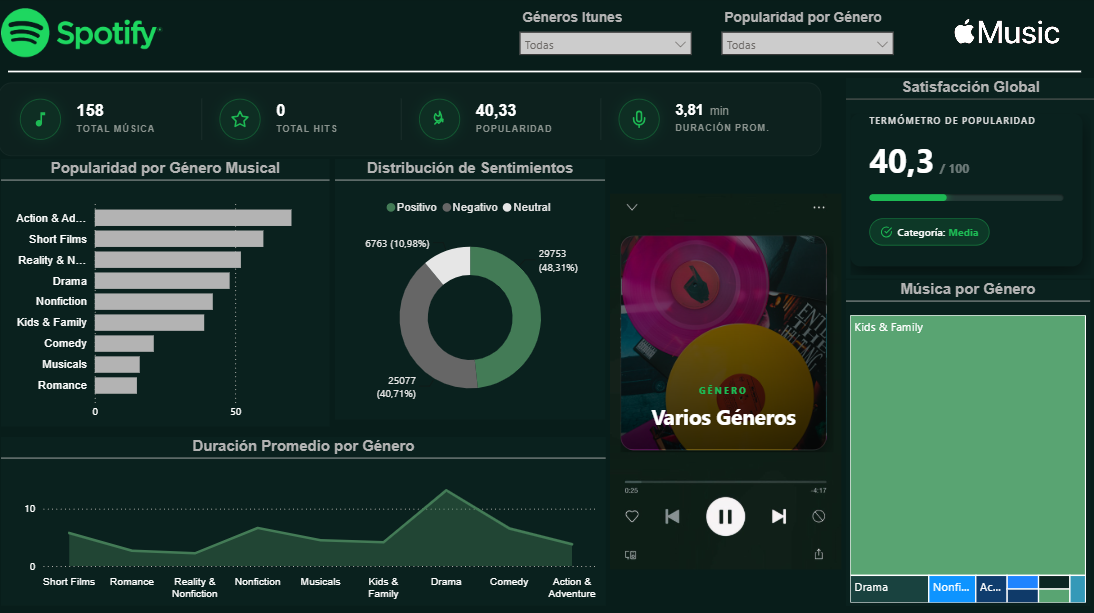

Layout of this report page (visuals, bound fields, positions):
{"tool":"powerbi","page":{"name":"DASHBOARD","canvas":[1280,720],"ordinal":0},"visuals":[{"type":"image","box":[8.1,8.1,187.9,66.4],"z":0},{"type":"image","box":[1092.1,7,171.7,66.4],"z":1000},{"type":"shape","box":[16.2,63.7,1247.6,45.4],"z":2000},{"type":"slicer","title":"Géneros Itunes","fields":{"Values":["gold_music_segments.itunes_genre"]},"box":[600.7,10.2,220,75],"z":3000},{"type":"slicer","title":"Géneros Itunes","fields":{"Values":["gold_music_segments.itunes_genre"]},"box":[835.7,10.2,220,75],"z":4000},{"type":"htmlContent443BE3AD55E043BF878BED274D3A6855","fields":{"content":["MEDIDAS.Tarjeta_KPI_Premium_Transparente"]},"box":[0,94,967.3,102.1],"z":5000},{"type":"clusteredBarChart","title":"Popularidad por Género Musical","fields":{"Category":["gold_music_metrics.itunes_genre"],"Y":["Sum(gold_music_metrics.avg_popularity)"]},"box":[8.1,187.9,382.4,311.1],"z":6000},{"type":"image","box":[716.2,196.1,269,500.7],"z":7000},{"type":"htmlContent443BE3AD55E043BF878BED274D3A6855","title":"Satisfacción Global","fields":{"content":["MEDIDAS.Tarjeta_Barra_Popularidad"]},"box":[990,94,290,233.3],"z":8000},{"type":"donutChart","title":"Distribución de Sentimientos","fields":{"Category":["gold_reviews_metrics.sentiment_category"],"Y":["Sum(gold_reviews_metrics.total_reviews)"]},"box":[397,187.9,314.3,303],"z":9000},{"type":"lineChart","title":"Duración Promedio por Género","fields":{"Category":["gold_music_segments.itunes_genre"],"Y":["Sum(gold_music_segments.avg_duration_minutes)"]},"box":[8.1,512,703.2,196.1],"z":9001},{"type":"treemap","title":"Música por Género","fields":{"Group":["gold_music_segments.itunes_genre"],"Values":["Sum(gold_music_segments.total_tracks)"]},"box":[990,328.9,283.5,379.1],"z":9002},{"type":"htmlContent443BE3AD55E043BF878BED274D3A6855","fields":{"content":["MEDIDAS.Tarjeta_Medidor_Transparente"]},"box":[722.6,272.2,257.6,262.5],"z":9003}]}

Visuals, with their boxes in screenshot pixels (x1, y1, x2, y2), scaled from the page's 1280x720 canvas onto the 1094x613 screenshot:
image: {"left": 7, "top": 7, "right": 168, "bottom": 63}
image: {"left": 933, "top": 6, "right": 1080, "bottom": 62}
shape: {"left": 14, "top": 54, "right": 1080, "bottom": 93}
"Géneros Itunes" slicer: {"left": 513, "top": 9, "right": 701, "bottom": 73}
"Géneros Itunes" slicer: {"left": 714, "top": 9, "right": 902, "bottom": 73}
htmlContent443BE3AD55E043BF878BED274D3A6855 - MEDIDAS.Tarjeta_KPI_Premium_Transparente: {"left": 0, "top": 80, "right": 827, "bottom": 167}
"Popularidad por Género Musical" clusteredBarChart: {"left": 7, "top": 160, "right": 334, "bottom": 425}
image: {"left": 612, "top": 167, "right": 842, "bottom": 593}
"Satisfacción Global" htmlContent443BE3AD55E043BF878BED274D3A6855: {"left": 846, "top": 80, "right": 1093, "bottom": 279}
"Distribución de Sentimientos" donutChart: {"left": 339, "top": 160, "right": 608, "bottom": 418}
"Duración Promedio por Género" lineChart: {"left": 7, "top": 436, "right": 608, "bottom": 603}
"Música por Género" treemap: {"left": 846, "top": 280, "right": 1088, "bottom": 603}
htmlContent443BE3AD55E043BF878BED274D3A6855 - MEDIDAS.Tarjeta_Medidor_Transparente: {"left": 618, "top": 232, "right": 838, "bottom": 455}
